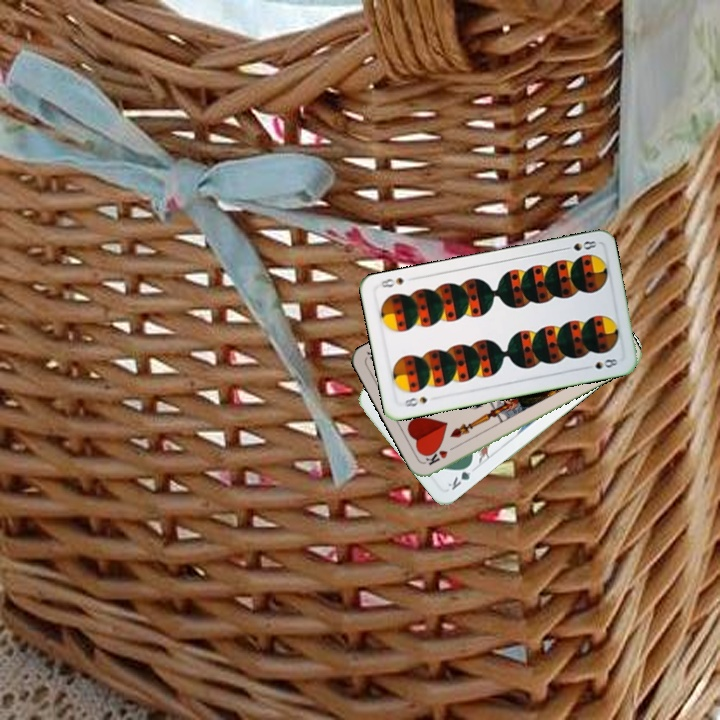GK: (444, 459, 475, 493)
HK: (422, 441, 460, 468)
S8: (559, 237, 599, 254), (401, 393, 430, 409)
